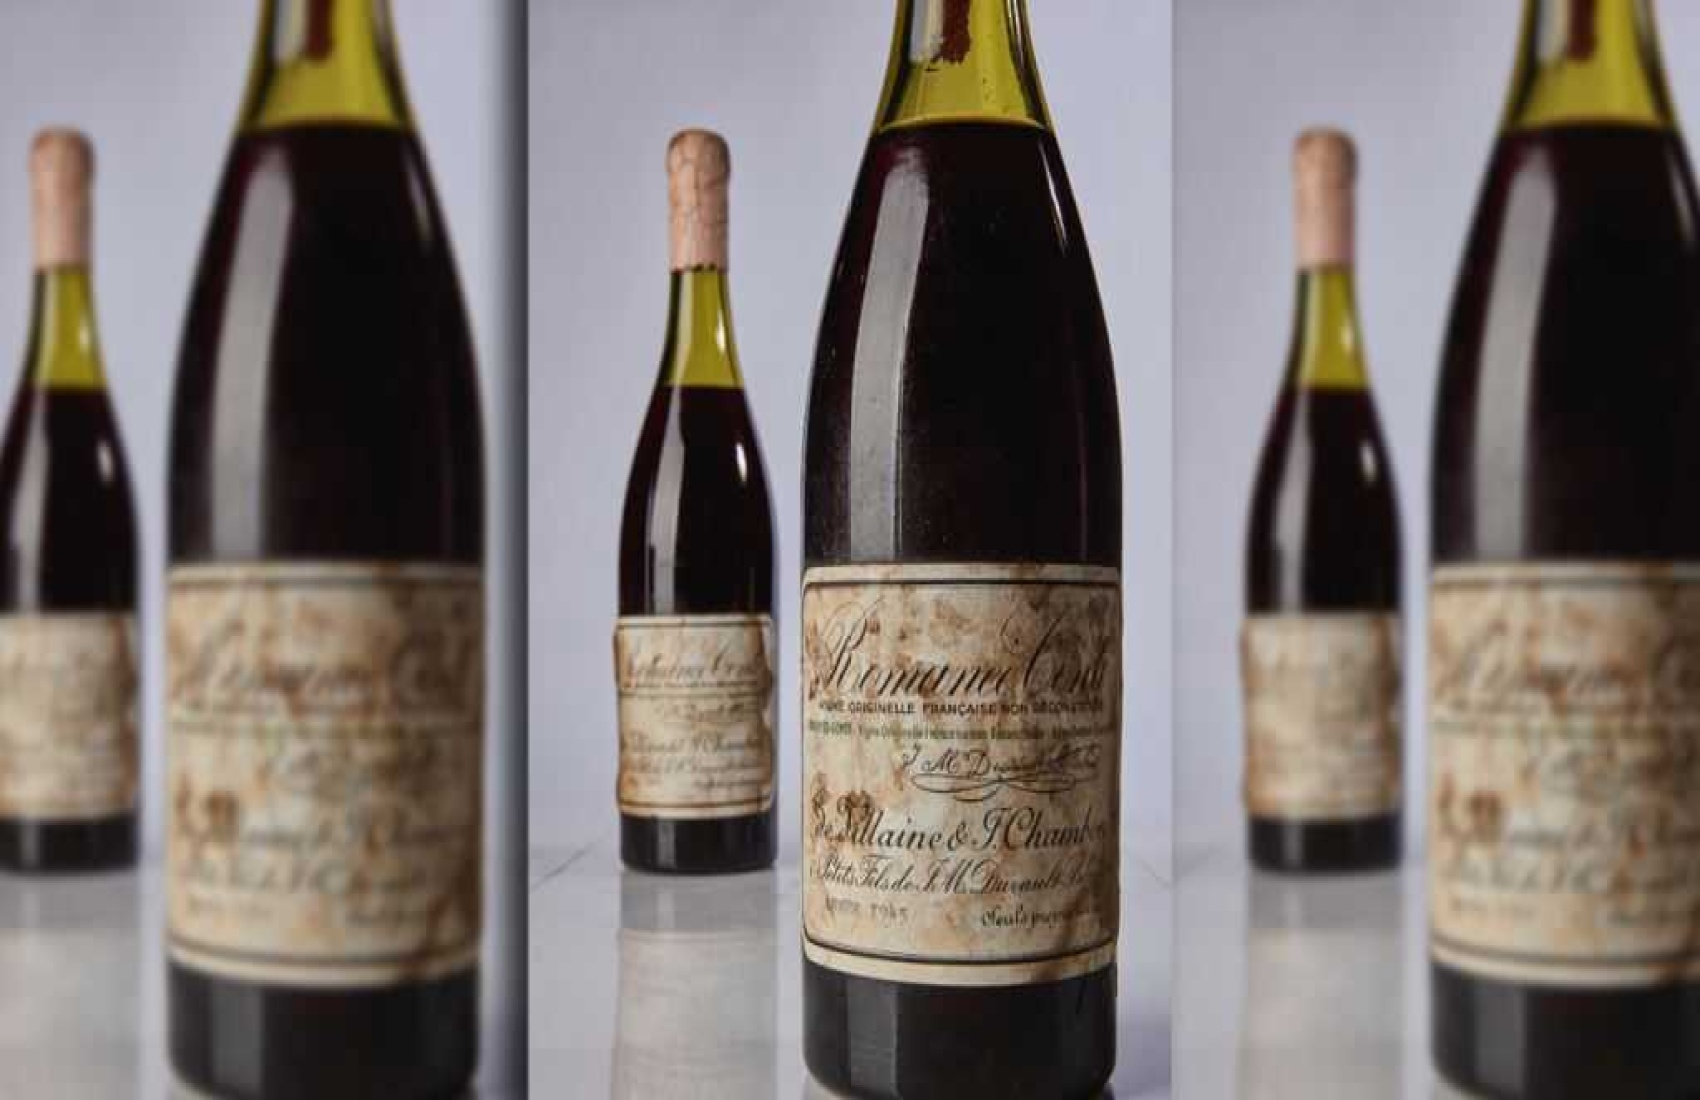wine: (147, 33, 470, 1073), (802, 21, 1116, 1079), (1415, 32, 1700, 1072), (617, 114, 781, 860)
